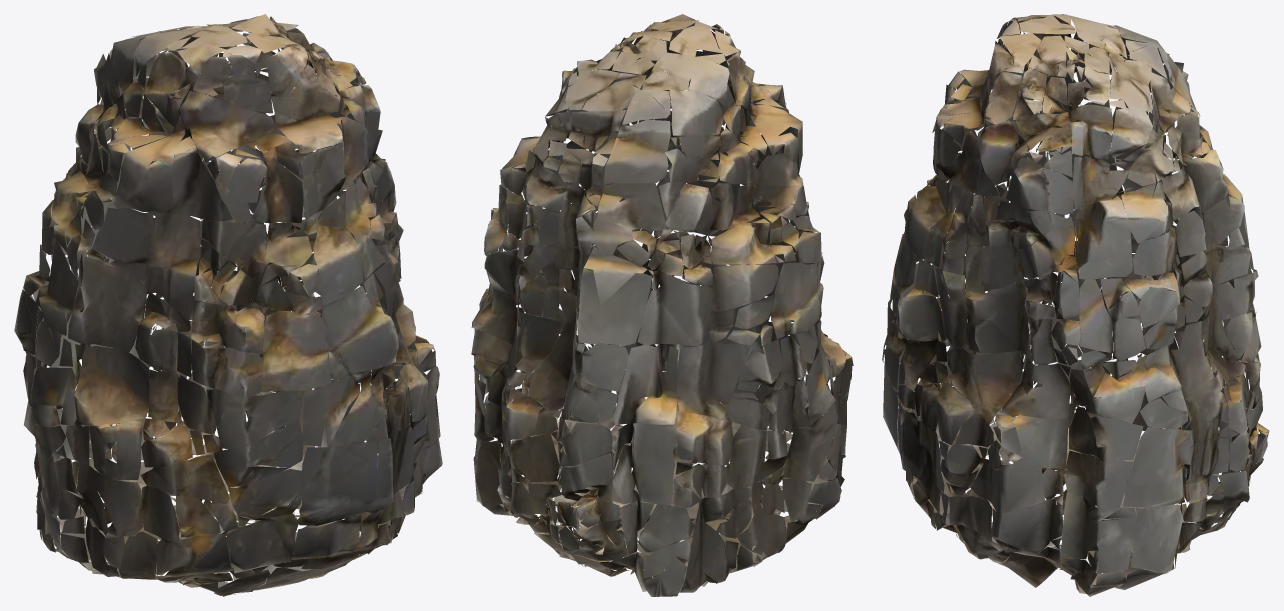
File: monolith.glb
3 views of the same model, side by side, from view 1: azimuth 30°, elevation 25°; view 2: azimuth 150°, elevation 25°; view 3: azimuth 270°, elevation 25° (orthographic). The views are drawn at different scales.
Visible parts, largest first — view 1: Mesh_0; view 2: Mesh_0; view 3: Mesh_0.
Part boxes in pixels (x1,y1,x2,y2): Mesh_0: [14, 14, 442, 596]; Mesh_0: [471, 14, 853, 596]; Mesh_0: [882, 14, 1269, 596].
Bounding box in the file's own units: 2.77 × 3.99 × 2.7.
Materials: 1 (1 with a texture image).
